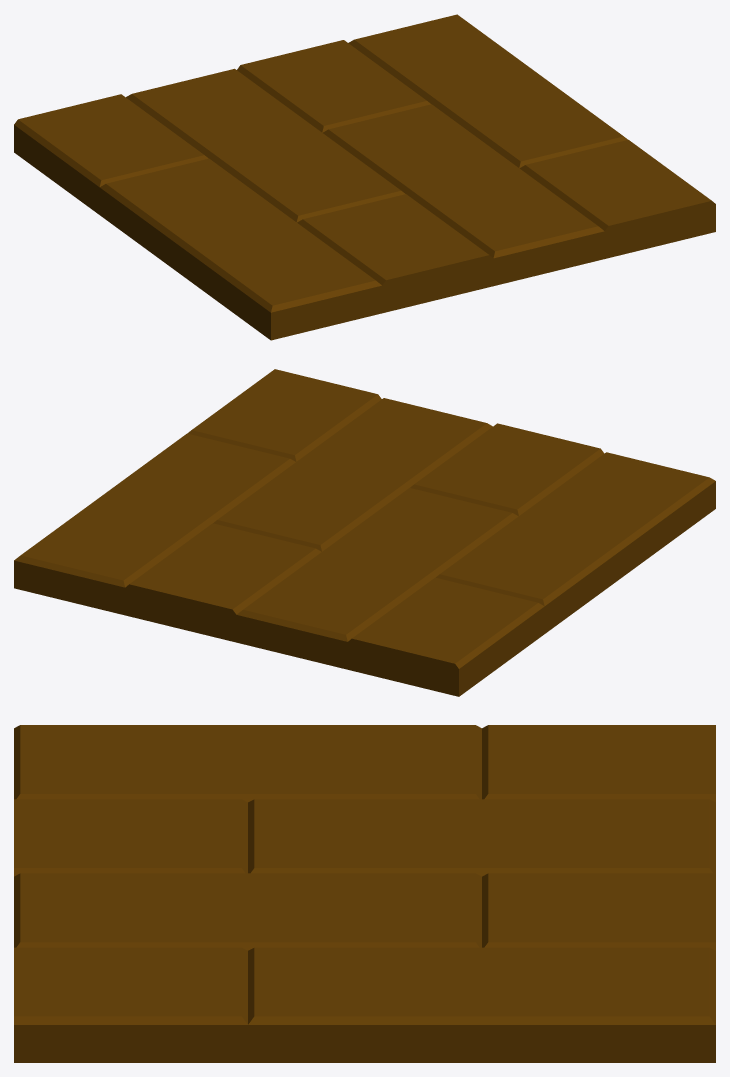
File: R_Floor_Small_1.fbx
The picture shows the model from 3 angles, top to bottom: view 1: azimuth 30°, elevation 25°; view 2: azimuth 150°, elevation 25°; view 3: azimuth 270°, elevation 25°; orthographic projection. The views are drawn at different scales.
Visible parts, largest first — view 1: R_Floor_Small_1; view 2: R_Floor_Small_1; view 3: R_Floor_Small_1.
Boxes of the visible parts, bbox=[...] form: R_Floor_Small_1: bbox=[14, 14, 715, 340]; R_Floor_Small_1: bbox=[14, 369, 715, 696]; R_Floor_Small_1: bbox=[14, 725, 715, 1062].
Bounding box in the file's own units: 1000 × 1000 × 69.08.
